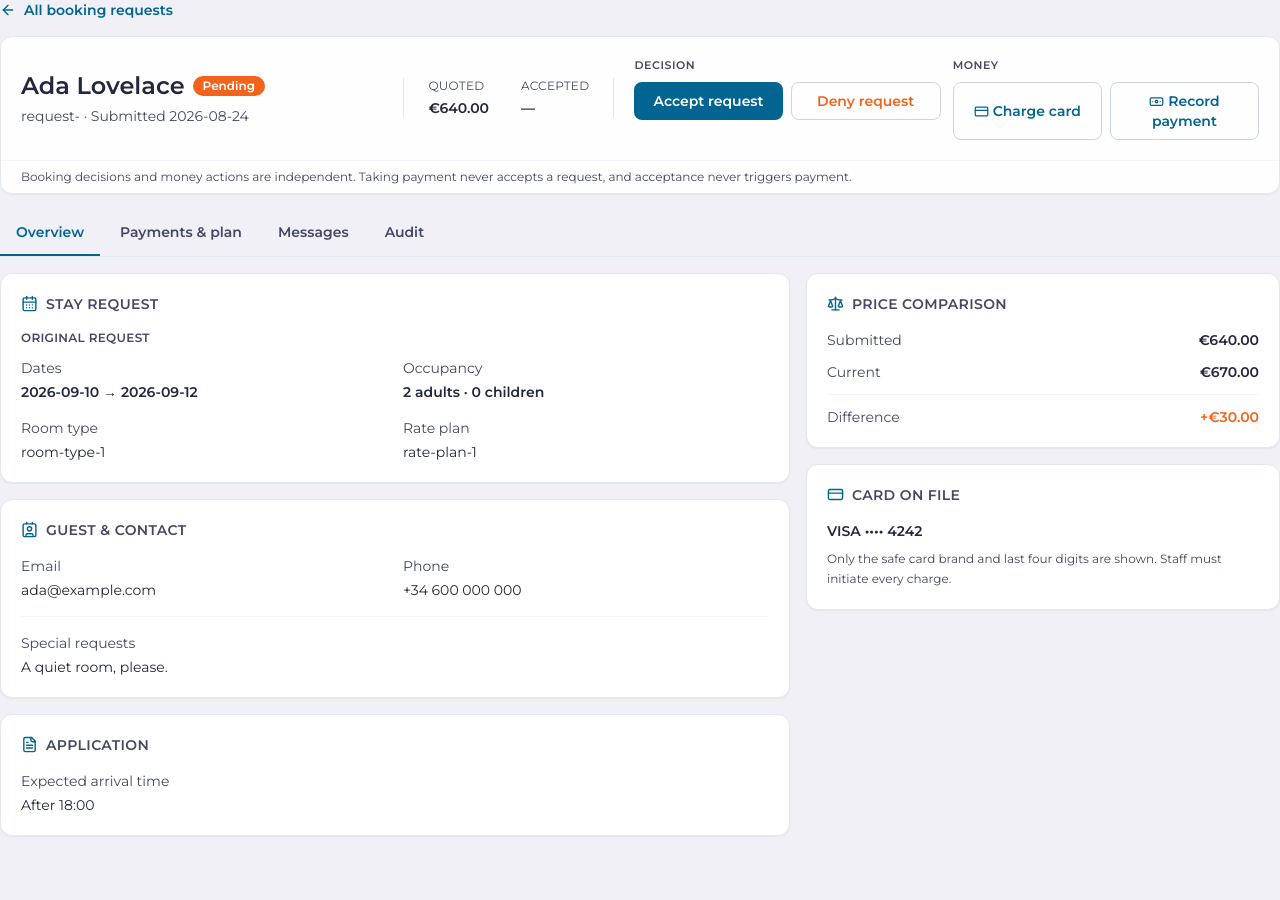
Booking request decisions › offers the exact authoritative remainder for an inconsistent legacy refunded parent
Click the tab "Payments & plan" at (181, 232), box [104,210,258,256]
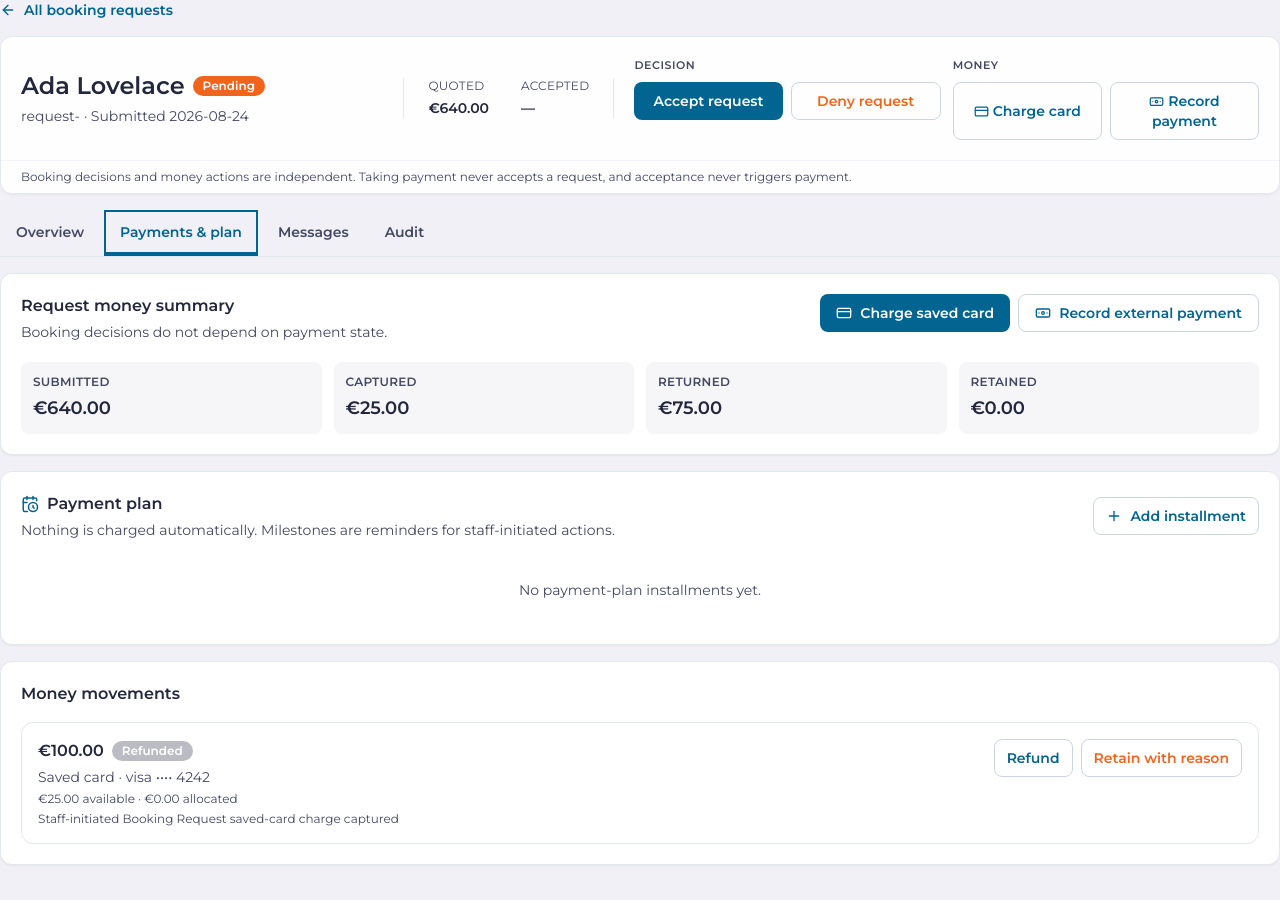
Click the button "Refund" at (1033, 758), box [994,738,1072,776]
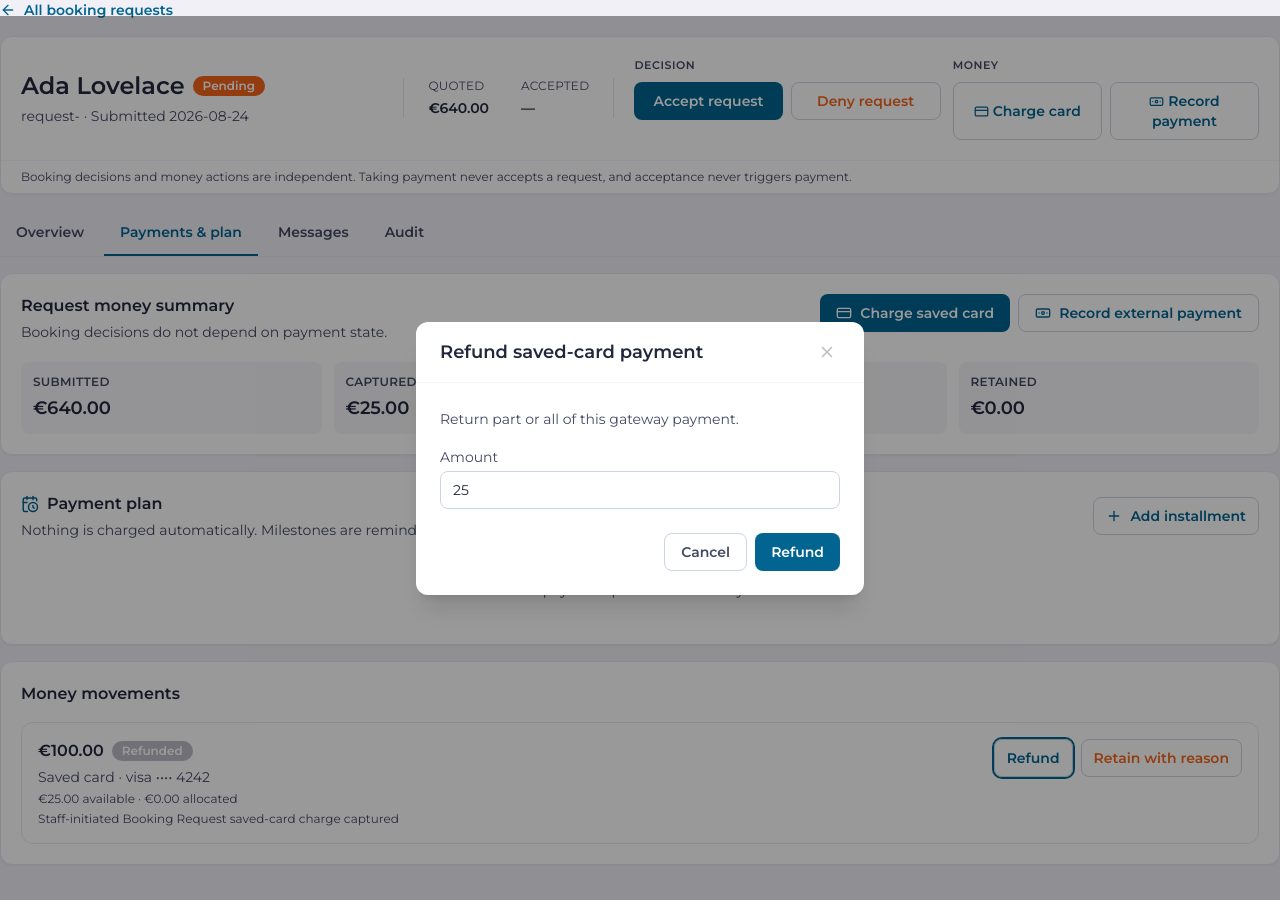
Now the field labelled "Amount" holds "25", box [440,470,840,508]
